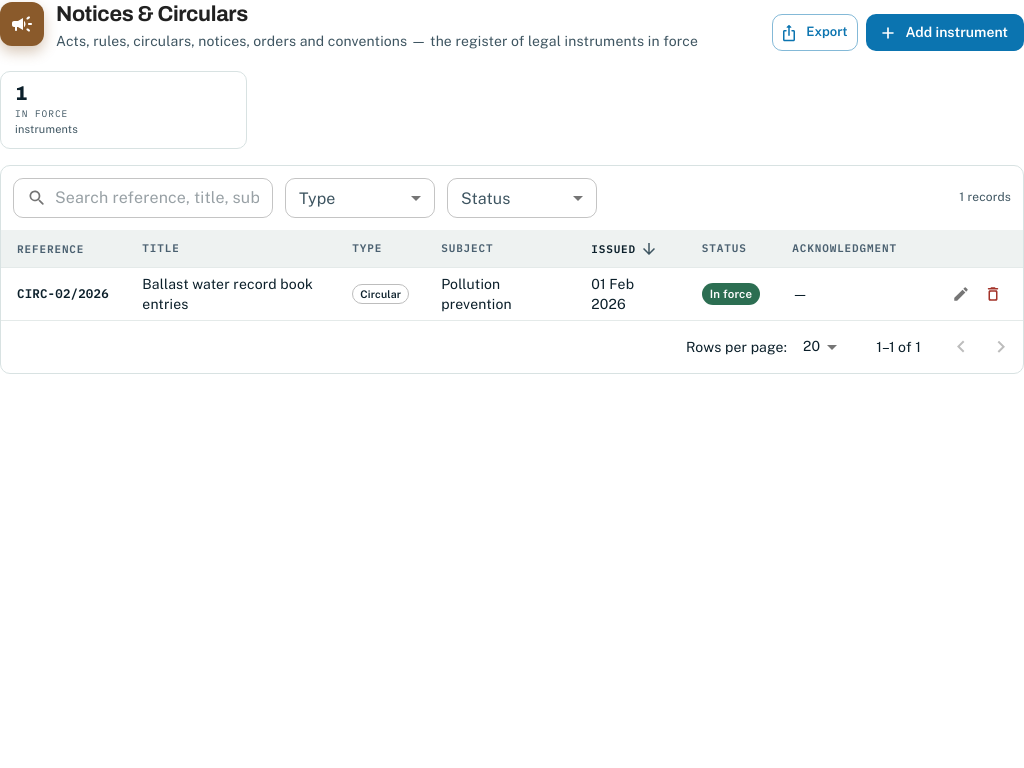
the notice library and the portal › explains why an instrument is off the portal: a draft, a non-citable type, or the desk’s switch
Click the text "Ballast water record book entries".
click(231, 294)  # box x1=126 y1=267 x2=336 y2=320
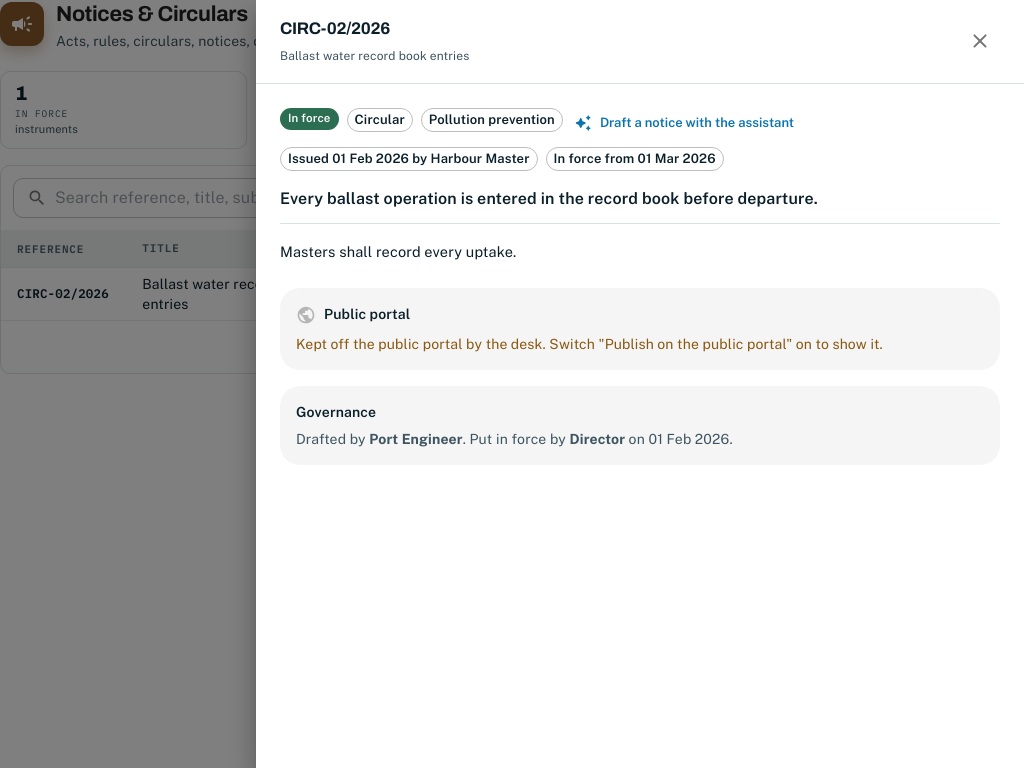
Now the text "Kept off the public portal by the desk" is shown, box x1=296 y1=336 x2=883 y2=352
